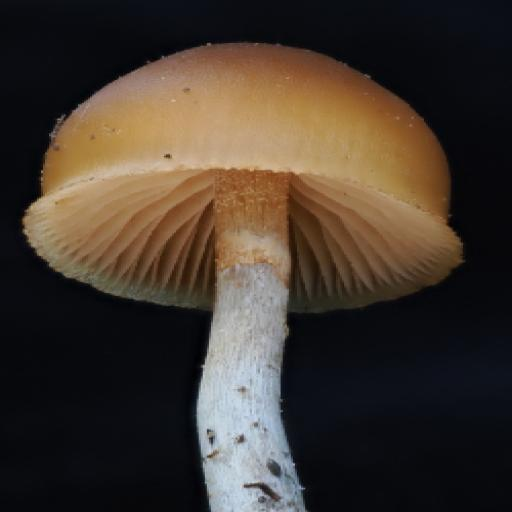mushroom: (18, 25, 475, 438)
